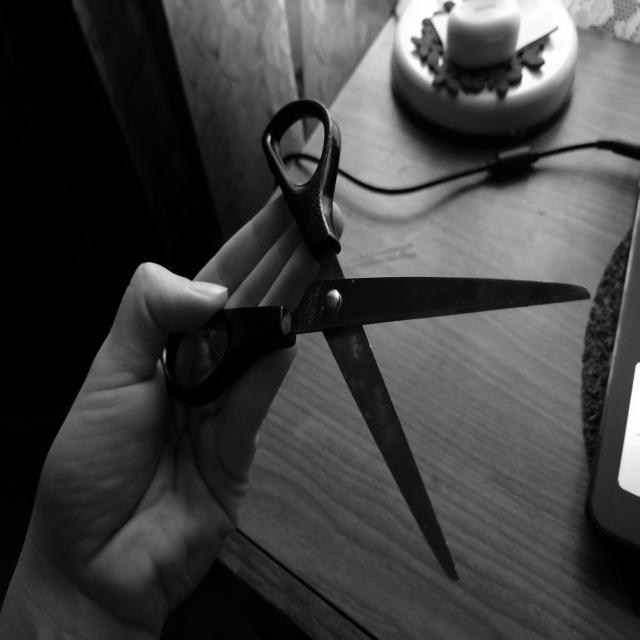scissors: (137, 63, 597, 605)
